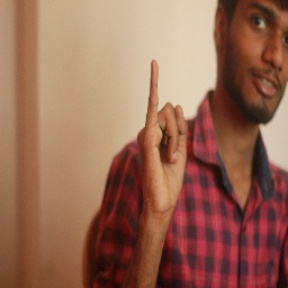I: (135, 58, 194, 204)
